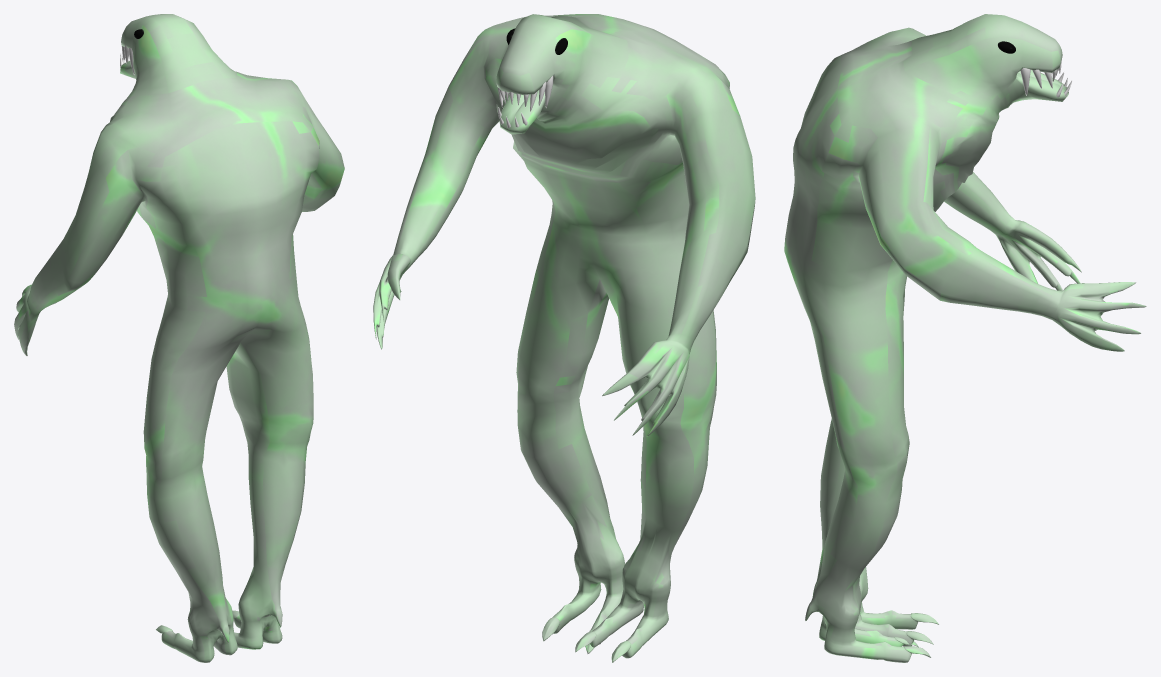
Rendered from Berserkercorrer.0020.obj.
3 views of the same model, side by side, from view 1: azimuth 30°, elevation 25°; view 2: azimuth 150°, elevation 25°; view 3: azimuth 270°, elevation 25° (orthographic). The views are drawn at different scales.
Visible parts, largest first — view 1: polySurface27; view 2: polySurface27; view 3: polySurface27.
Boxes of the visible parts, box(x1,y1,x2,y2) form: polySurface27: box(14, 14, 344, 662); polySurface27: box(373, 14, 755, 662); polySurface27: box(784, 14, 1146, 662).
Size of the model in its own units: 11.45 by 23.8 by 12.37.
Materials: 1 (1 with a texture image).
